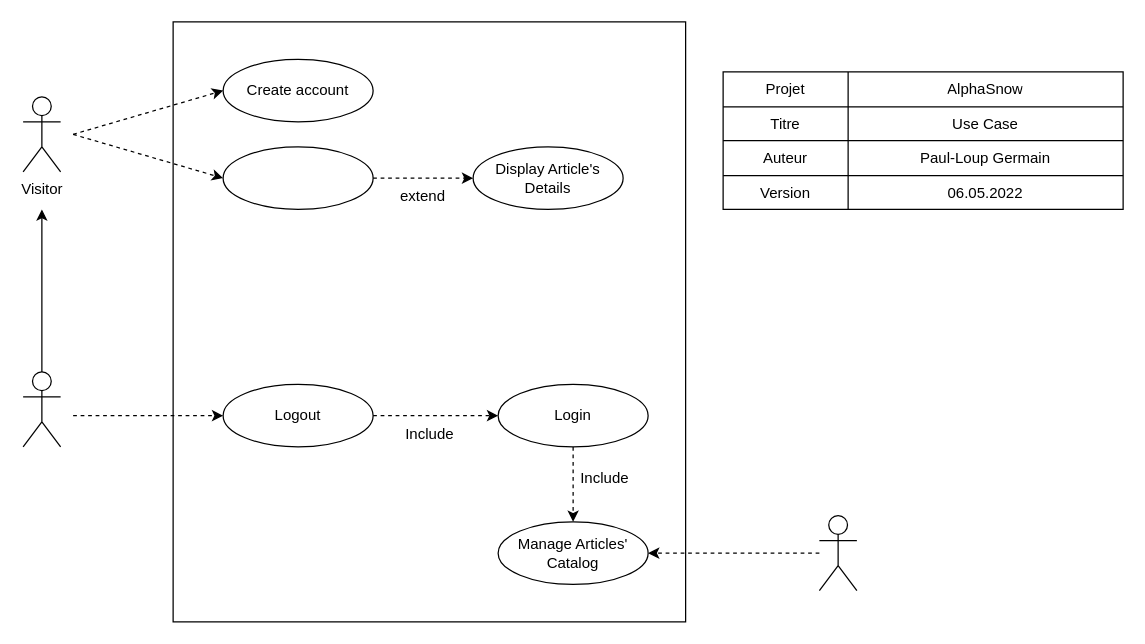
The diagram is 1145 pixels wide and 644 high, and some of its shapes have lost their labels. The shapes that lost their labels are listed below. From the top down, each one's centre as x and y in pixels, then its label:
At pixel 297 177: "Browse Articles".
At pixel 41 409: "User".
At pixel 837 552: "Admin".
